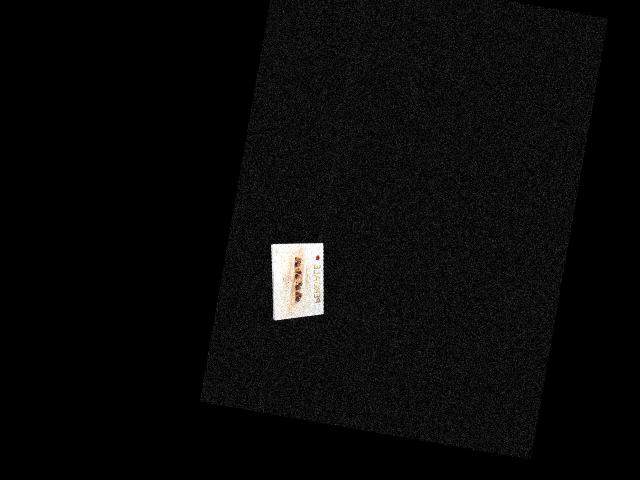chocolate: (256, 236, 334, 324)
